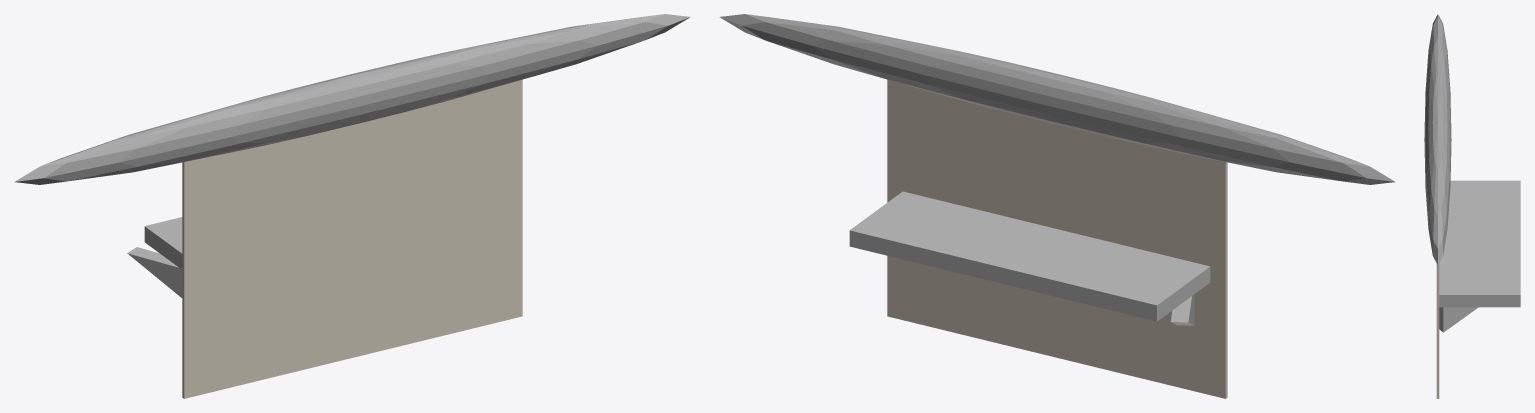
Rendered from blockbuster_shelf.fbx.
3 renders of one model, left to right at view 1: azimuth 30°, elevation 25°; view 2: azimuth 150°, elevation 25°; view 3: azimuth 270°, elevation 25°, orthographic. The views are drawn at different scales.
Visible parts, largest first — view 1: Backing, Crown, MainShelf, Bracket_1; view 2: Backing, Crown, MainShelf; view 3: MainShelf, Crown, Bracket_3, Backing.
Boxes of the visible parts, bbox=[...] form: Backing: bbox=[182, 79, 522, 398]; Crown: bbox=[15, 14, 690, 184]; MainShelf: bbox=[144, 217, 182, 269]; Bracket_1: bbox=[127, 247, 182, 297]; Backing: bbox=[887, 79, 1227, 398]; Crown: bbox=[719, 14, 1394, 184]; MainShelf: bbox=[849, 191, 1210, 321]; MainShelf: bbox=[1439, 180, 1520, 307]; Crown: bbox=[1424, 14, 1451, 264]; Bracket_3: bbox=[1439, 307, 1478, 332]; Backing: bbox=[1436, 263, 1439, 398].
Size of the model in its own units: 440 by 175 by 71.
